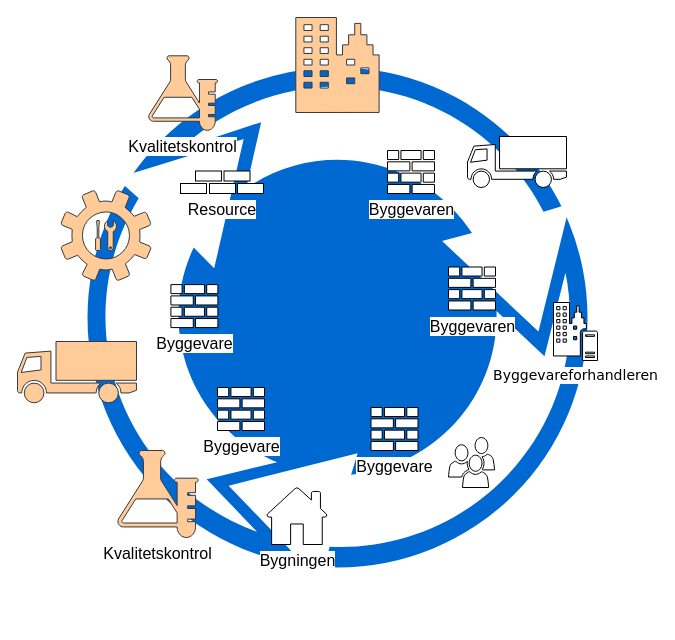
This 675x640 diagram has some shape labels left out. Each missing label, with the centre of its shape:
"Byggevareproducenten" belongs at (337,64).
"Designteamet og Projekteringen" belongs at (471,462).
"Forarbejdning" belongs at (105,235).
"Leverendøren" belongs at (516,162).
"Nedriveren" belongs at (76,371).
